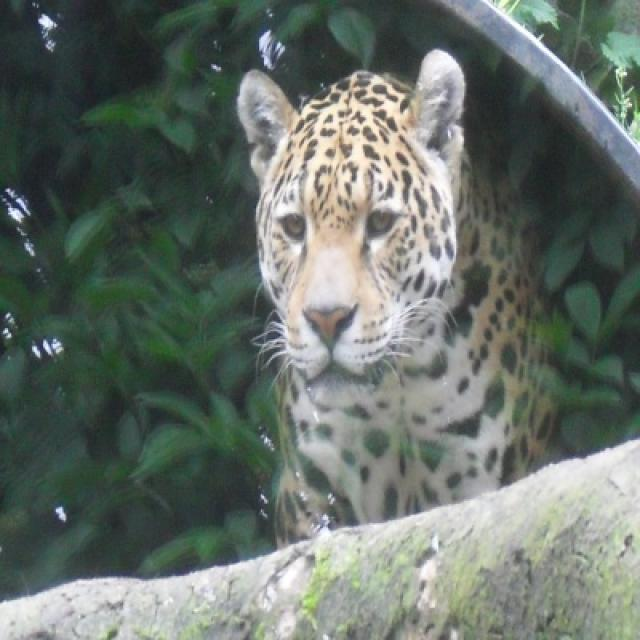Jaguar: (239, 54, 567, 542)
